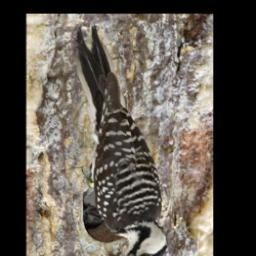Woodpecker: (73, 23, 168, 256)
